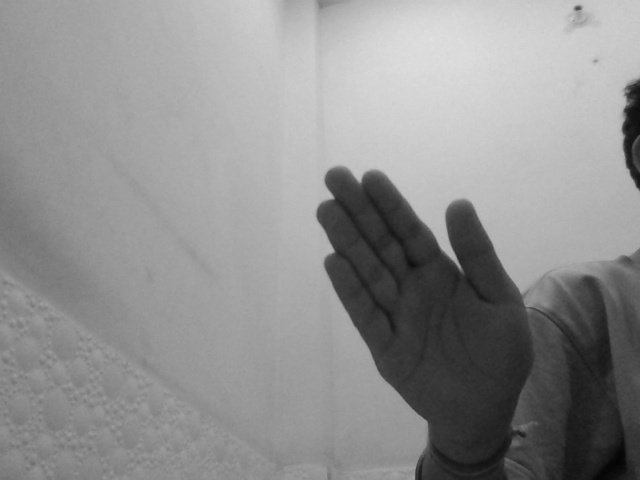Hello: (313, 163, 539, 439)
